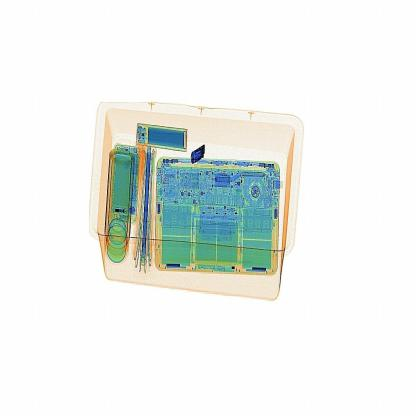knife: (185, 143, 217, 173)
